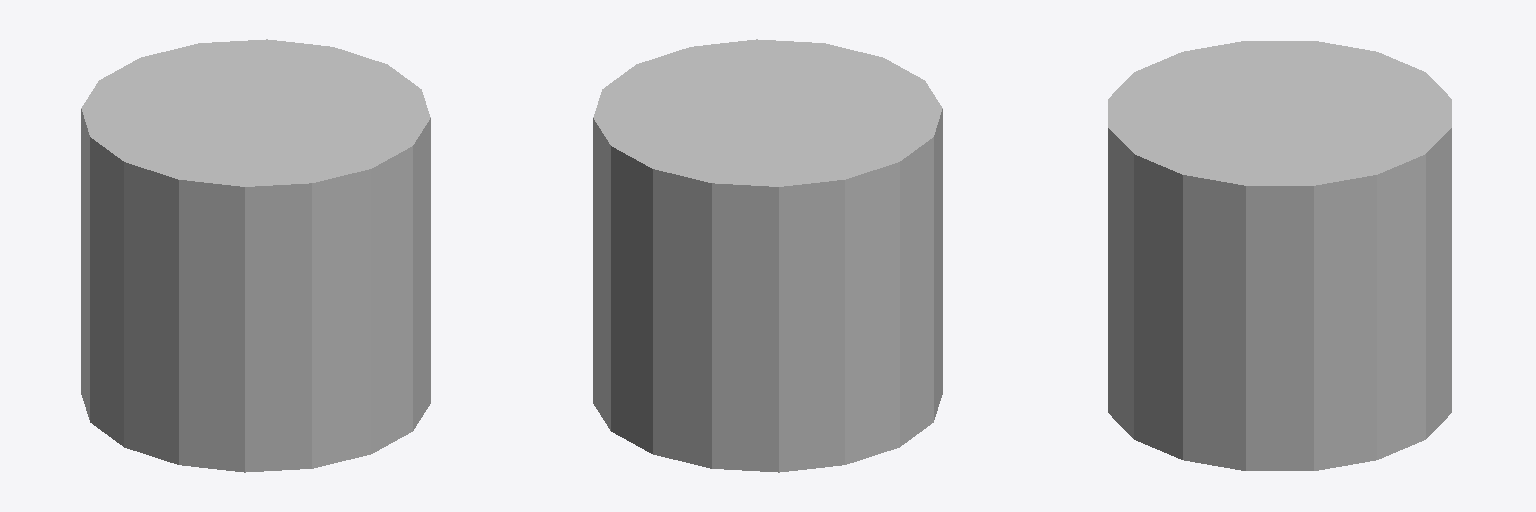
The model's file is Knight_LFO_B_Collider.obj.
3 renders of one model, left to right at view 1: azimuth 30°, elevation 25°; view 2: azimuth 150°, elevation 25°; view 3: azimuth 270°, elevation 25°, orthographic.
Parts seen in each view (by area): view 1: Knight_LFO_B_Collider; view 2: Knight_LFO_B_Collider; view 3: Knight_LFO_B_Collider.
Part boxes in pixels (x1,y1,x2,y2): Knight_LFO_B_Collider: (81, 39, 430, 472); Knight_LFO_B_Collider: (593, 39, 942, 472); Knight_LFO_B_Collider: (1108, 41, 1451, 470).
Bounding box in the file's own units: 0.9375 × 0.86 × 0.9375.